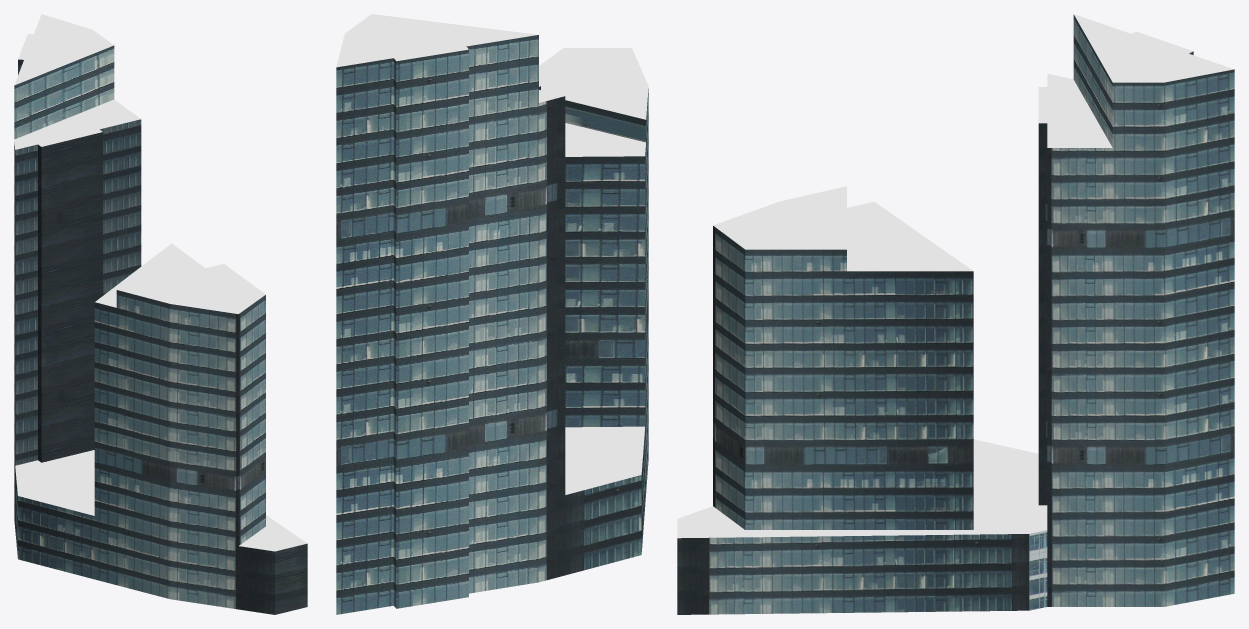
File: tall building.dae
3 renders of one model, left to right at view 1: azimuth 30°, elevation 25°; view 2: azimuth 150°, elevation 25°; view 3: azimuth 270°, elevation 25°, orthographic. The views are drawn at different scales.
Visible parts, largest first — view 1: Component_2 (×9); view 2: Component_2 (×5); view 3: Component_2 (×8).
Boxes of the visible parts, box(x1,y1,x2,y2) form: Component_2 (×9): box(14, 14, 307, 614); Component_2 (×5): box(336, 14, 648, 614); Component_2 (×8): box(677, 14, 1234, 614).
Bounding box in the file's own units: 1447 × 3423 × 3554.
Materials: 4 (3 with a texture image).
